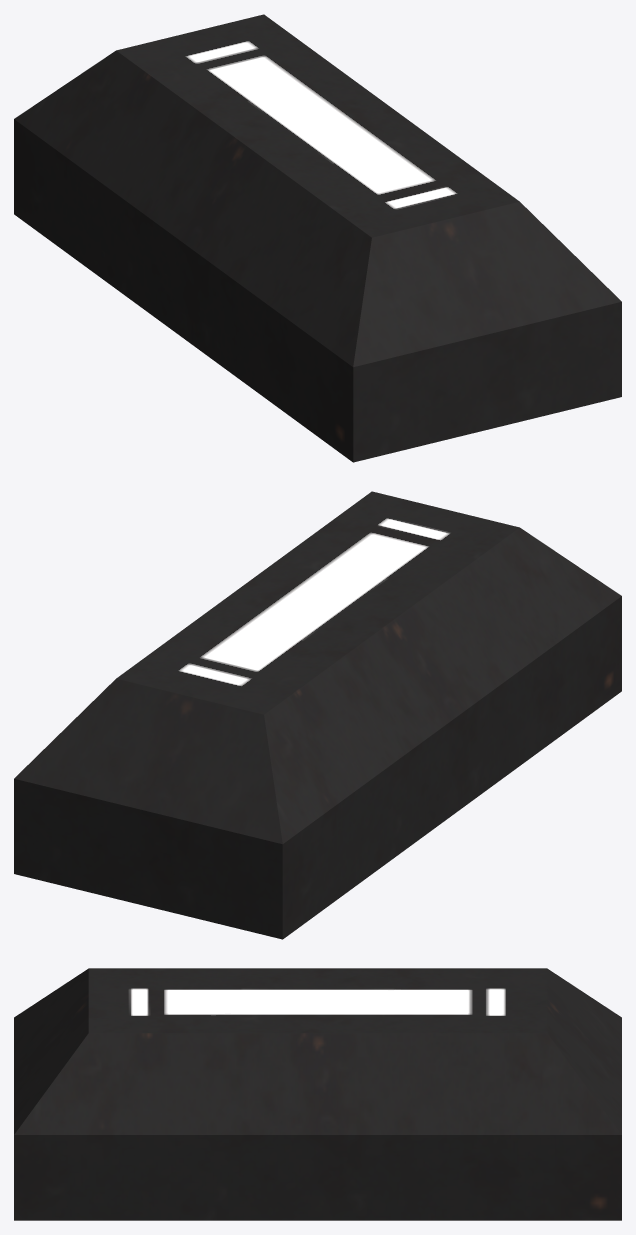
File: box_addon_2.fbx
3 views of the same model, one above another, from view 1: azimuth 30°, elevation 25°; view 2: azimuth 150°, elevation 25°; view 3: azimuth 270°, elevation 25° (orthographic). The views are drawn at different scales.
Parts seen in each view (by area): view 1: box_addon_2; view 2: box_addon_2; view 3: box_addon_2.
Part boxes in pixels (left/top/right/bottom): box_addon_2: left=14, top=14, right=621, bottom=462; box_addon_2: left=14, top=491, right=621, bottom=939; box_addon_2: left=14, top=968, right=621, bottom=1220.
Size of the model in its own units: 3.31 by 2.12 by 7.24.
